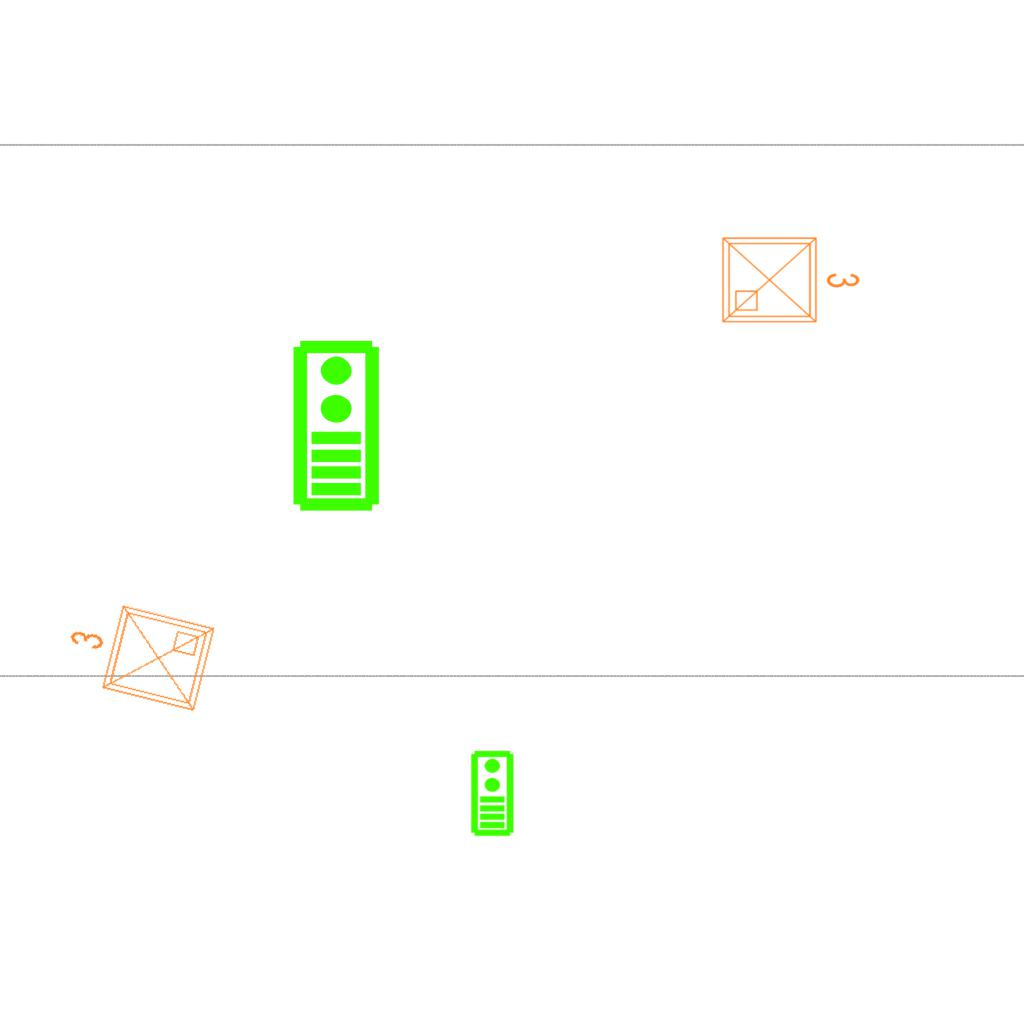Einbaudownlights_LED_Konferenzraeume: (52, 586, 224, 724), (715, 226, 865, 330)
Gegensprechanlage_mit_Video: (287, 337, 382, 513), (468, 749, 515, 837)
